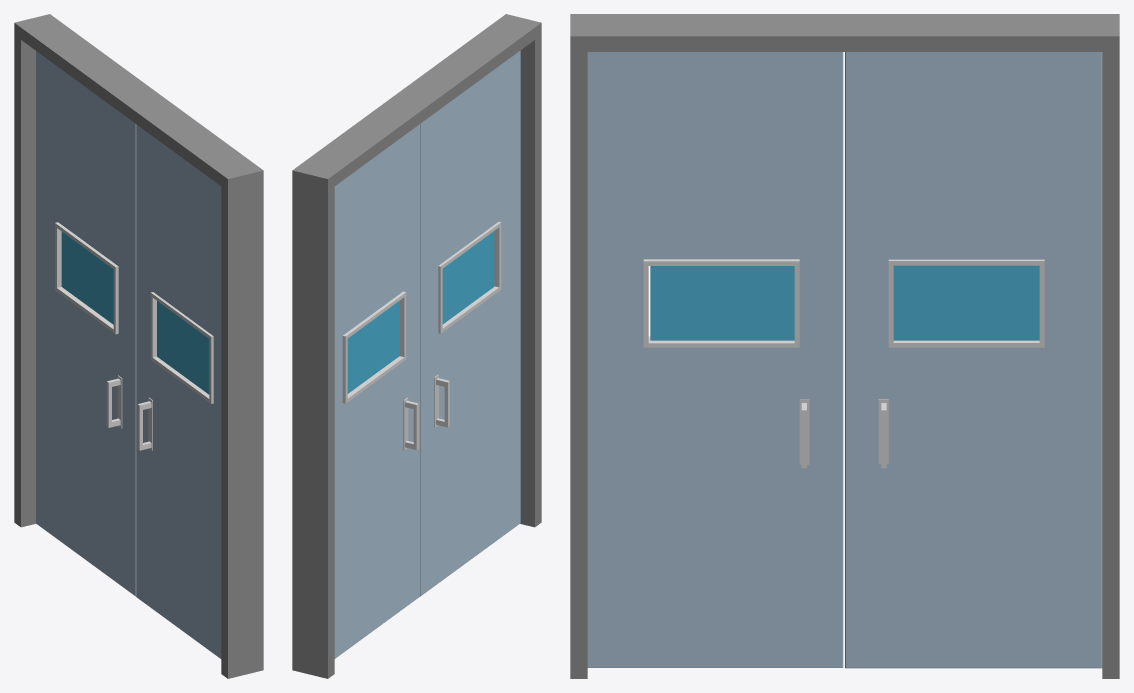
The model's file is DoorMetal4.fbx.
3 views of the same model, side by side, from view 1: azimuth 30°, elevation 25°; view 2: azimuth 150°, elevation 25°; view 3: azimuth 270°, elevation 25° (orthographic). The views are drawn at different scales.
Parts seen in each view (by area): view 1: DoorMetal4.1, DoorMetalFrame4, DoodMetal4.2, DoodGlass4.2, DoodGlass4.1; view 2: DoodMetal4.2, DoorMetalFrame4, DoorMetal4.1, DoodGlass4.2, DoodGlass4.1; view 3: DoorMetal4.1, DoodMetal4.2, DoorMetalFrame4, DoodGlass4.1, DoodGlass4.2.
Part boxes in pixels (x1=…): DoorMetal4.1: x1=36, y1=51, x2=136, y2=596; DoorMetalFrame4: x1=14, y1=14, x2=263, y2=678; DoodMetal4.2: x1=136, y1=125, x2=221, y2=658; DoodGlass4.2: x1=157, y1=301, x2=209, y2=394; DoodGlass4.1: x1=61, y1=231, x2=113, y2=324; DoodMetal4.2: x1=420, y1=50, x2=520, y2=596; DoorMetalFrame4: x1=292, y1=14, x2=541, y2=678; DoorMetal4.1: x1=334, y1=124, x2=419, y2=658; DoodGlass4.2: x1=442, y1=231, x2=494, y2=324; DoodGlass4.1: x1=347, y1=301, x2=399, y2=393; DoorMetal4.1: x1=845, y1=52, x2=1102, y2=668; DoodMetal4.2: x1=587, y1=52, x2=843, y2=667; DoorMetalFrame4: x1=570, y1=14, x2=1119, y2=678; DoodGlass4.1: x1=893, y1=265, x2=1039, y2=340; DoodGlass4.2: x1=650, y1=266, x2=794, y2=340.
Size of the model in its own units: 42.05 by 563 by 437.
